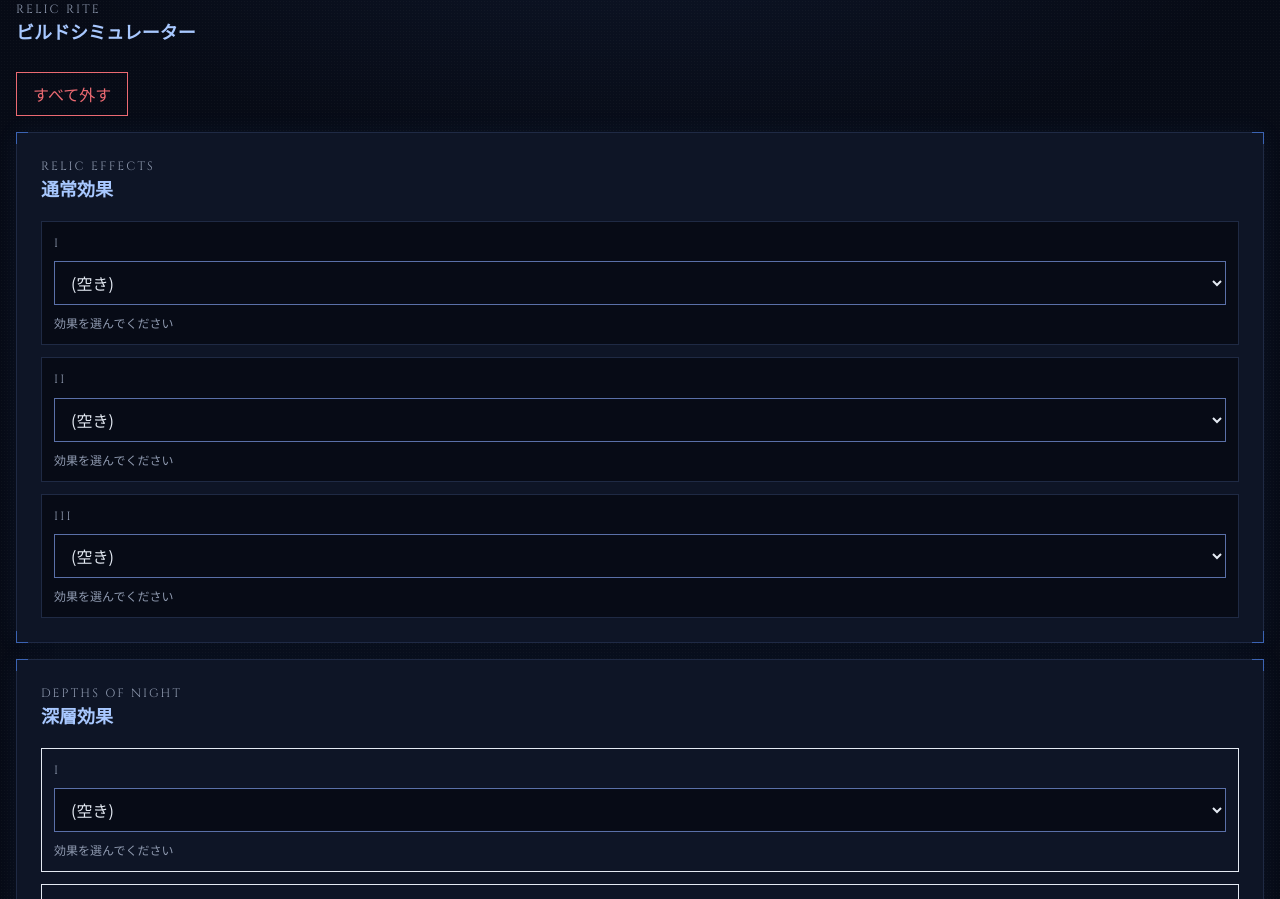
ビルドシミュレーターの画面(ビルドシミュレーター 3 章) › 効果を選ぶと合計が出て、すべて外すと 6 枠が空になり、API は 1 回だけ呼ばれる
The image size is (1280, 899).
Select "近接攻撃力上昇" in the dropdown named "通常効果 I" at (640, 283), box [54,261,1226,305]
(page scrolled)
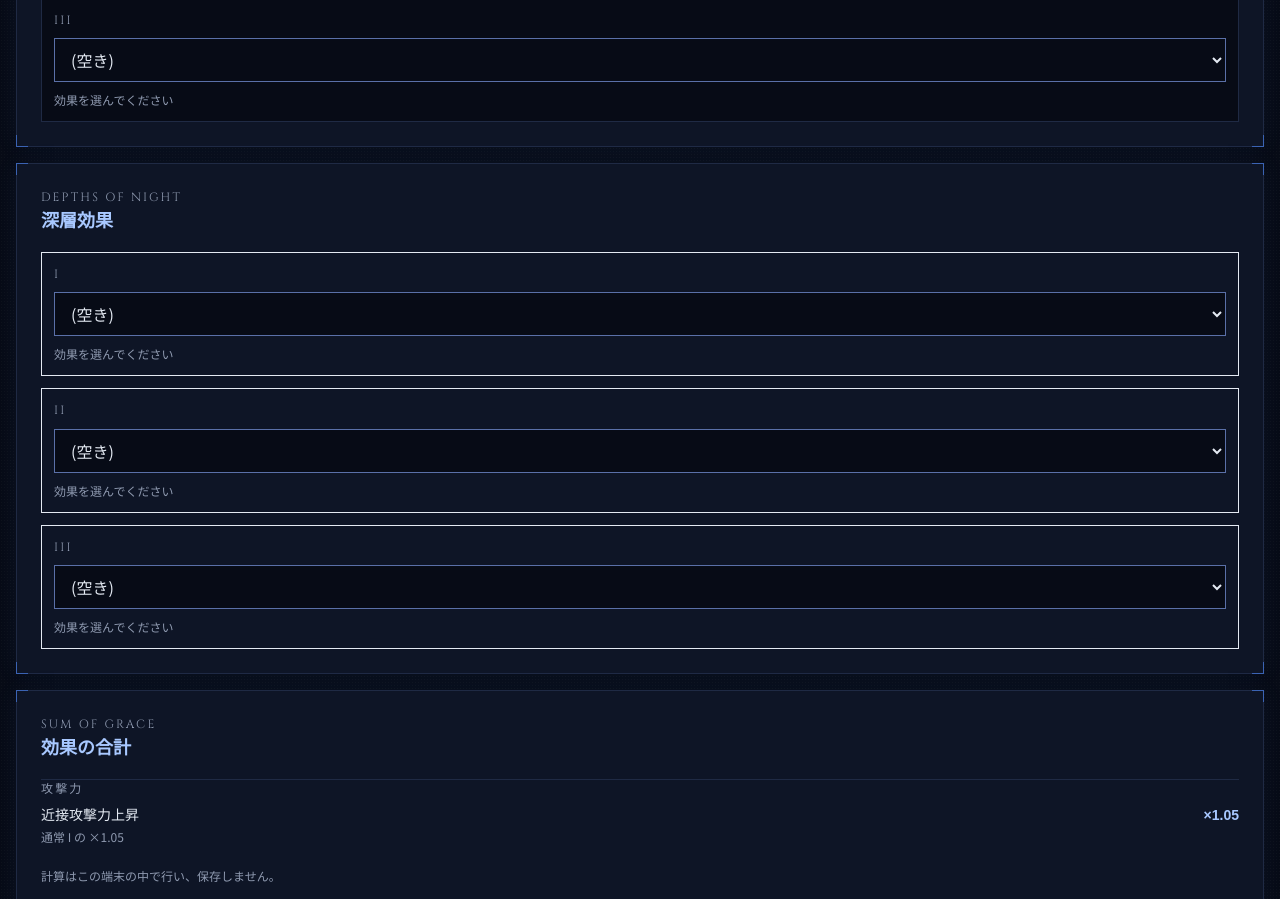
Select "取得ルーン減少" in the dropdown named "深層効果 II" at (640, 451), box [54,429,1226,473]
(page scrolled)
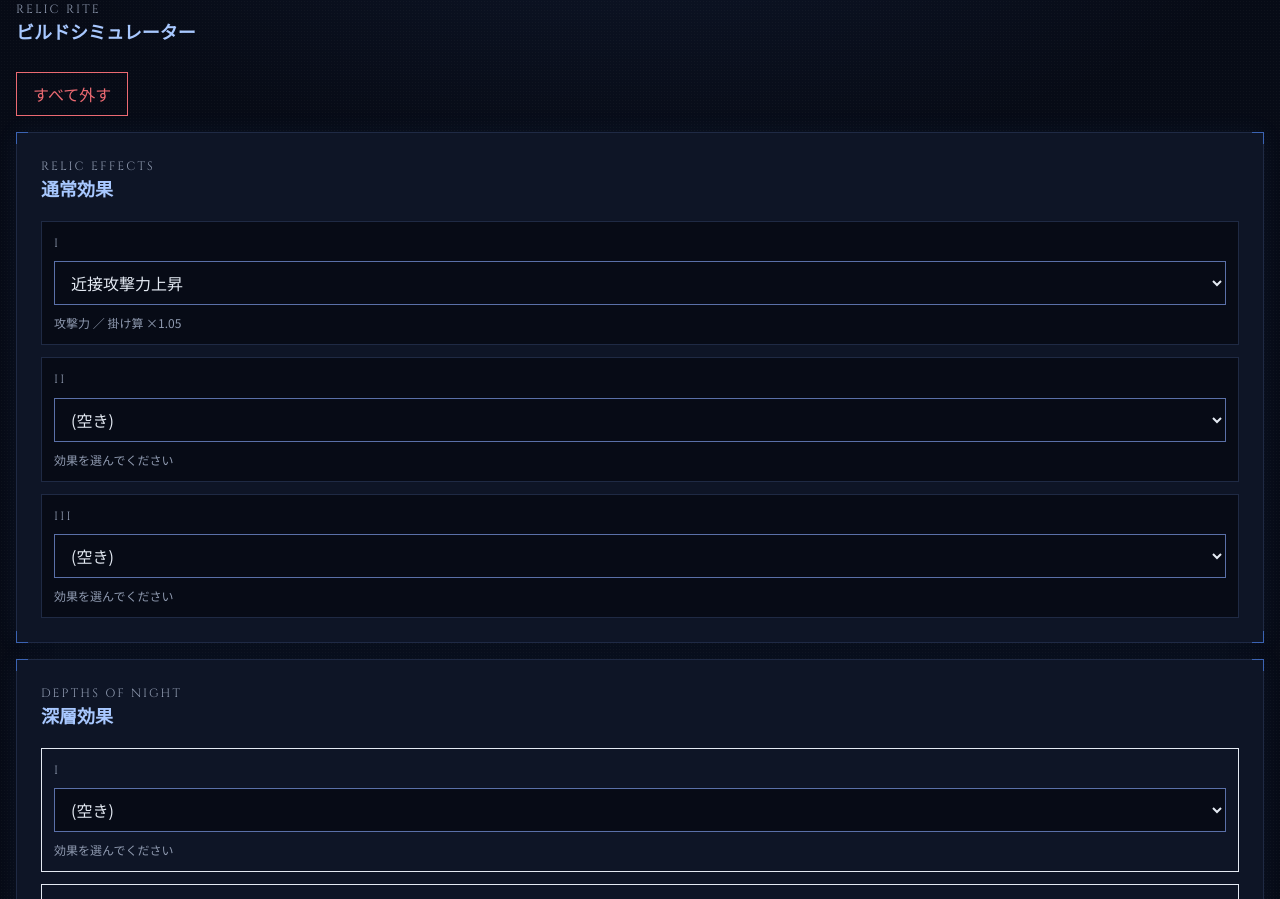
Click the button "すべて外す".
click(72, 94)  # box [16,72,128,116]
(page scrolled)
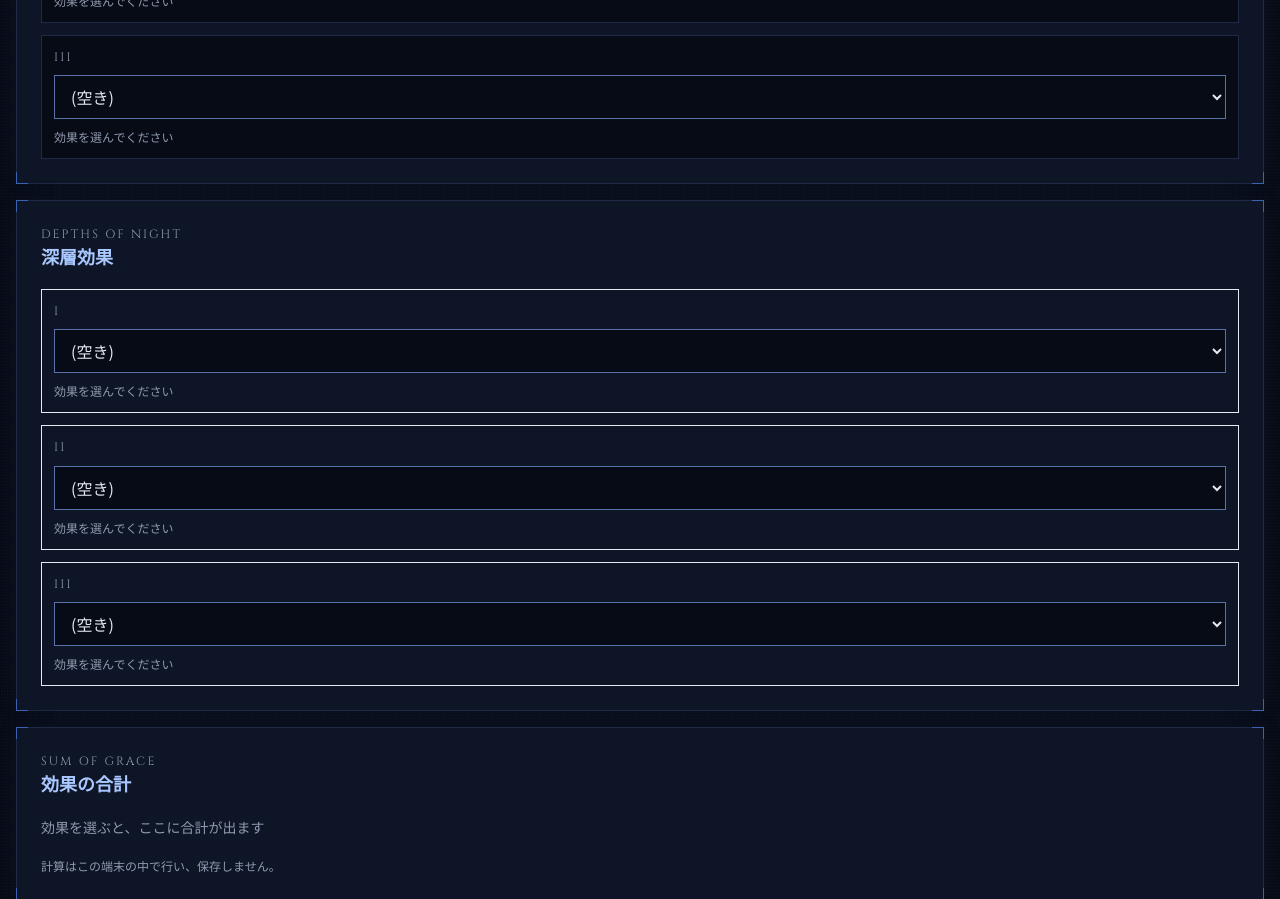
Expected: the text "効果を選ぶと、ここに合計が出ます" is shown, [41,817,264,837]
